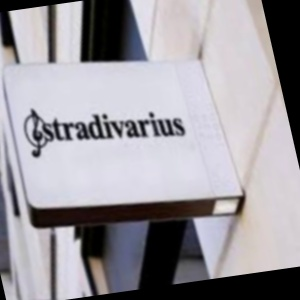stradivarius: (140, 32, 215, 132)
